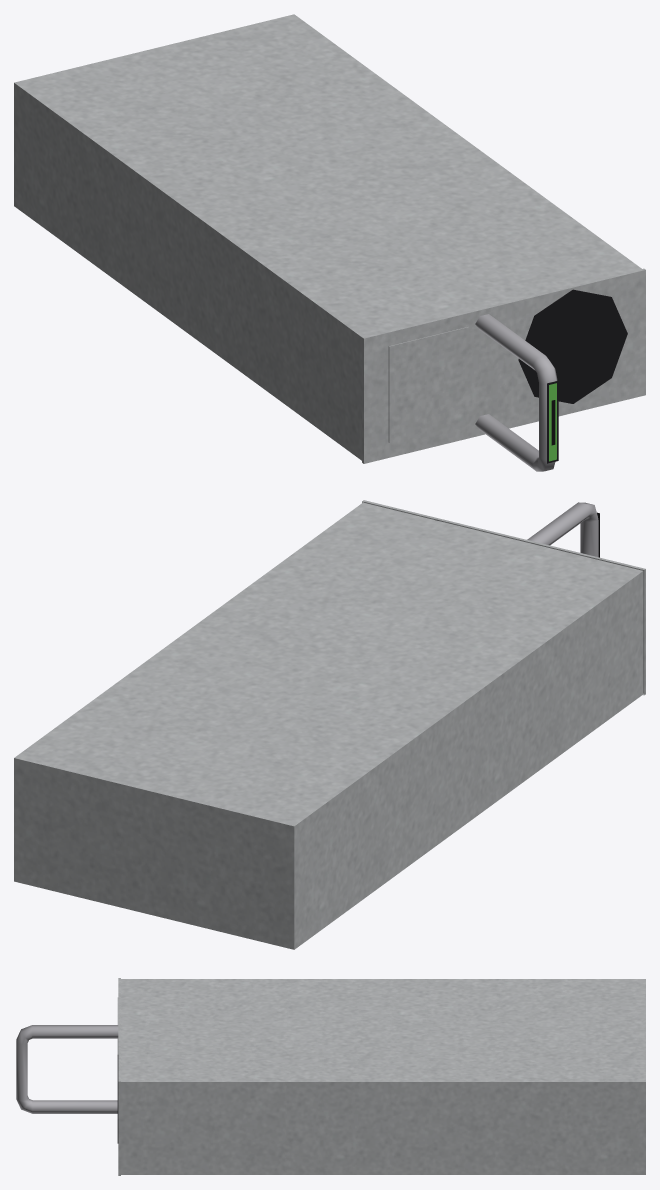
The model's file is DELL-PSU-13G-750W.far.glb.
The picture shows the model from 3 angles, top to bottom: view 1: azimuth 30°, elevation 25°; view 2: azimuth 150°, elevation 25°; view 3: azimuth 270°, elevation 25°; orthographic projection. The views are drawn at different scales.
Visible parts, largest first — view 1: PSU_Handle_far; view 2: PSU_Handle_far; view 3: PSU_Handle_far.
Boxes of the visible parts, bbox=[...] form: PSU_Handle_far: bbox=[14, 14, 645, 471]; PSU_Handle_far: bbox=[14, 500, 645, 949]; PSU_Handle_far: bbox=[16, 978, 645, 1175].
Bounding box in the file's own units: 0.093 × 0.0395 × 0.2399.
Materials: 3 (2 with a texture image).
